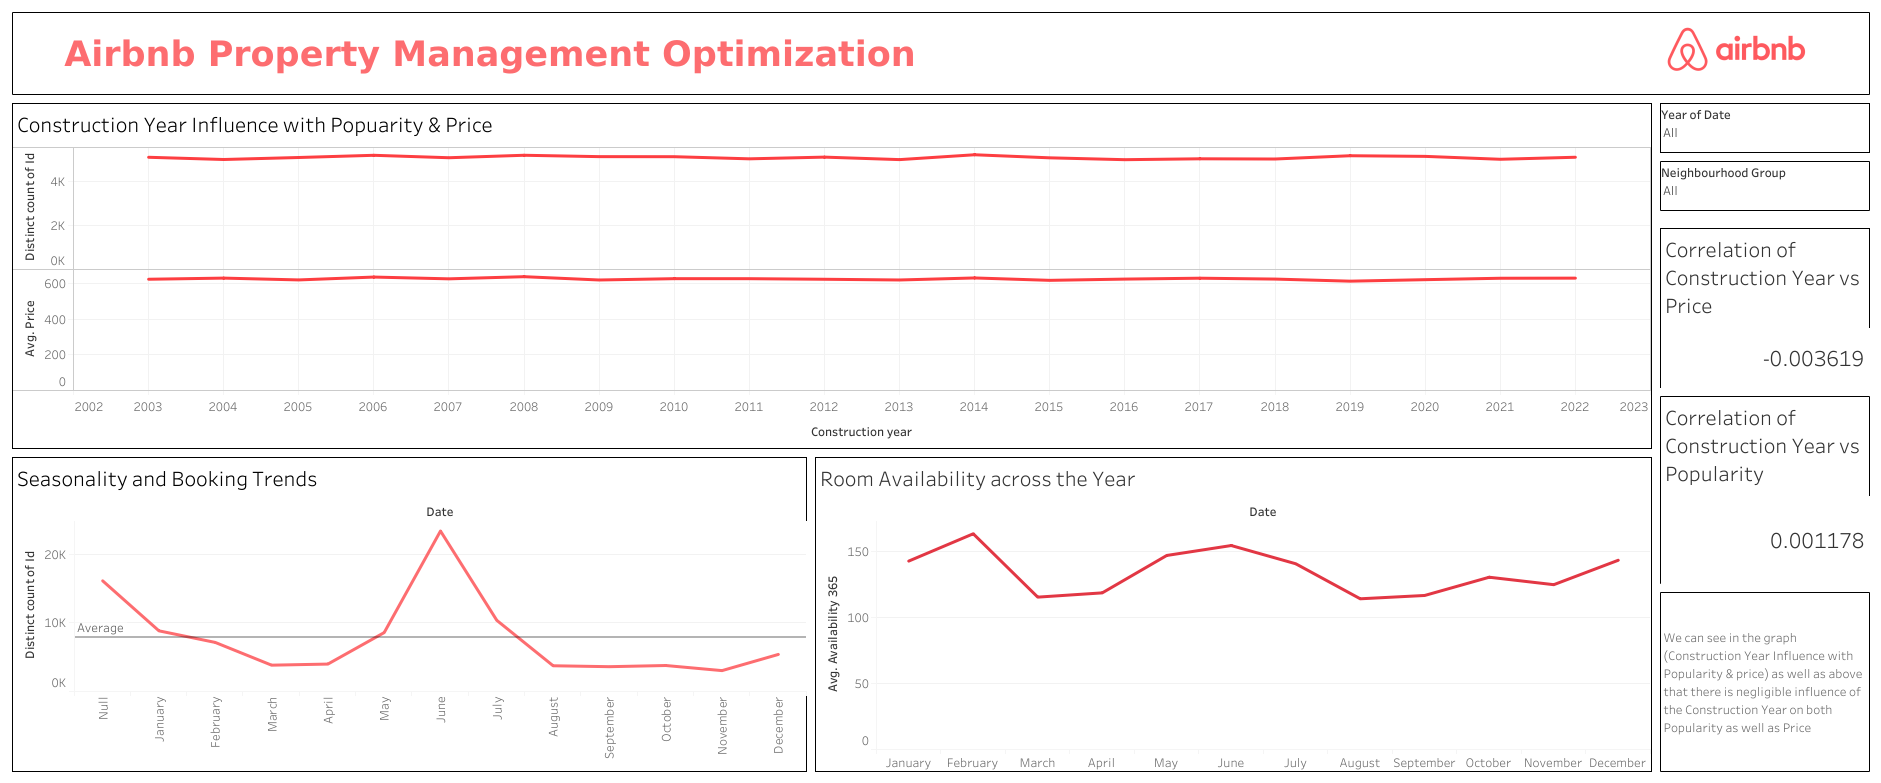

The dashboard page shown, as its layout file describes it:
{"tool":"tableau","page":{"name":"Dashboard 1 (4)","canvas":[1000,1000],"units":"permille","ordinal":3},"visuals":[{"type":"image","param":"E:/Data_Analytics/WsCube/Projects/AirBnb/images/logo.png","box":[879.9,4.9,115.3,115.9]},{"type":"text","box":[4.2,9.9,991.5,115.9]},{"type":"worksheet","title":"Sheet 17","mark":"Automatic","rows":["id","price"],"cols":["Construction year"],"box":[4.2,125.8,875.5,452.6]},{"type":"filter","title":"Sheet 5","param":"[federated.0o5vly91xbzcxx1f0rav40z5rqm1].[yr:Date:ok]","box":[879.8,125.8,116,77.7]},{"type":"filter","title":"Sheet 16","param":"[federated.0o5vly91xbzcxx1f0rav40z5rqm1].[none:neighbourhood group:nk]","box":[879.8,203.4,116,77.7]},{"type":"worksheet","title":"Sheet 20","mark":"Automatic","box":[879.8,286.1,116,213.3]},{"type":"worksheet","title":"Sheet 21","mark":"Automatic","box":[879.8,499.4,116,250.3]},{"type":"worksheet","title":"Sheet 5","mark":"Automatic","rows":["id"],"cols":["Date"],"box":[4.2,578.3,426.6,411.8]},{"type":"worksheet","title":"Sheet 16","mark":"Automatic","rows":["availability 365"],"cols":["Date"],"box":[430.8,578.3,448.9,411.8]},{"type":"text","box":[879.8,749.7,116,240.5]}]}

Visuals, with their boxes on the dashboard's canvas, which has no fixed pixel size, in thousandths of its width and height (x1, y1, x2, y2). These are canvas units, not pixel positions in the 1881x783 screenshot, which may show the page scaled, cropped or inside an application window:
image: BBox(880, 5, 995, 121)
text: BBox(4, 10, 996, 126)
"Sheet 17" worksheet: BBox(4, 126, 880, 578)
"Sheet 5" filter: BBox(880, 126, 996, 204)
"Sheet 16" filter: BBox(880, 203, 996, 281)
"Sheet 20" worksheet: BBox(880, 286, 996, 499)
"Sheet 21" worksheet: BBox(880, 499, 996, 750)
"Sheet 5" worksheet: BBox(4, 578, 431, 990)
"Sheet 16" worksheet: BBox(431, 578, 880, 990)
text: BBox(880, 750, 996, 990)
